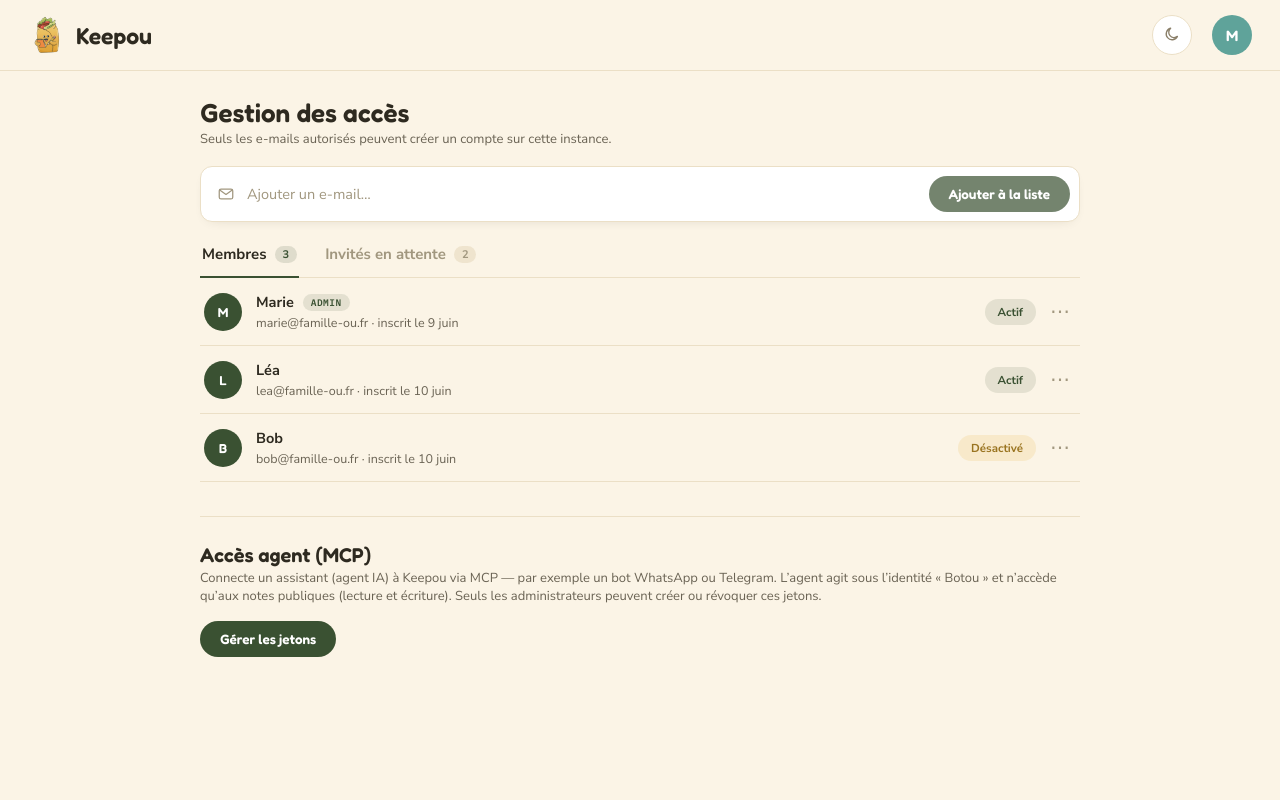
Test: AdminPage / AccessManager › separates pending invitees on their tab
The width and height of the screenshot is (1280, 800).
Click the tab "Invités en attente 2". click: [401, 261]
box: x1=323 y1=244 x2=478 y2=278
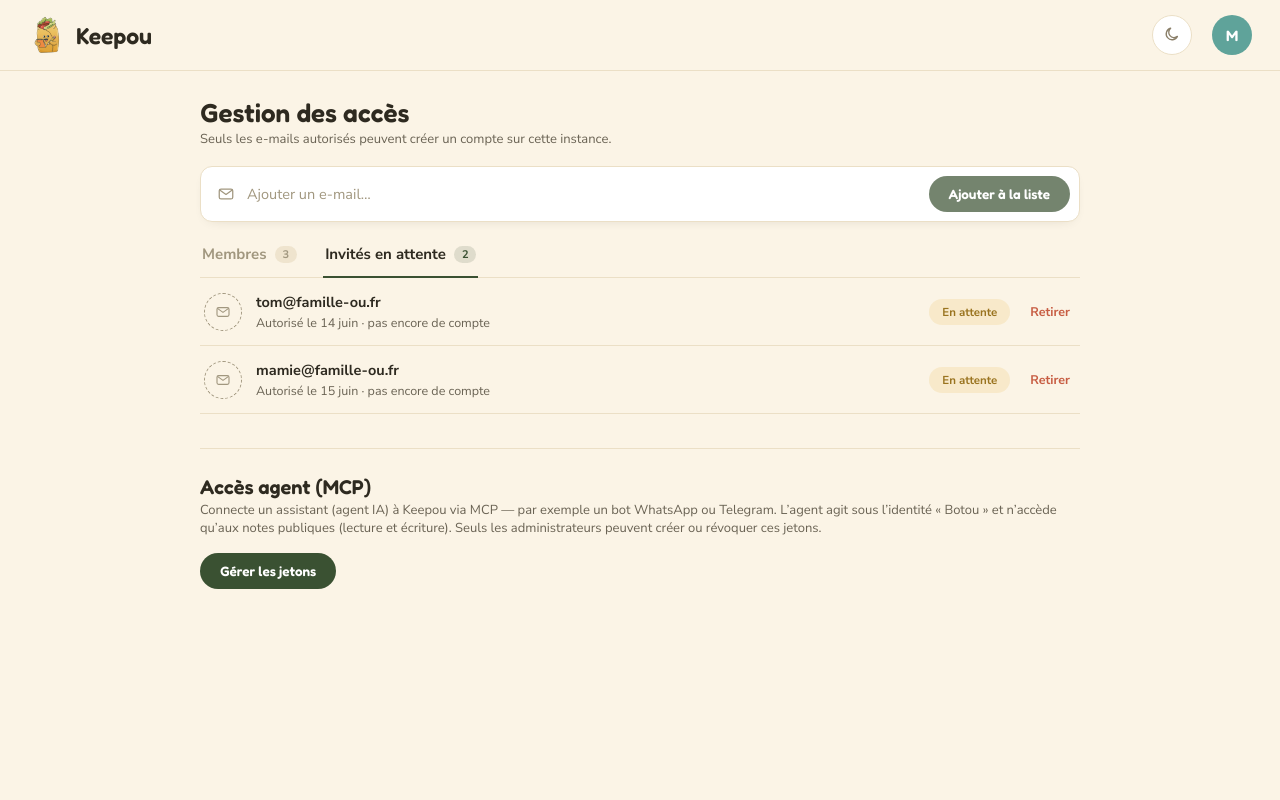
expect the text "tom@famille-ou.fr" is shown: met, box x1=256 y1=292 x2=381 y2=312
expect the text "mamie@famille-ou.fr" is shown: met, box x1=256 y1=360 x2=399 y2=380
expect the number of buttons "Retirer" is 2: met, box x1=1024 y1=295 x2=1076 y2=328; x1=1024 y1=363 x2=1076 y2=396
